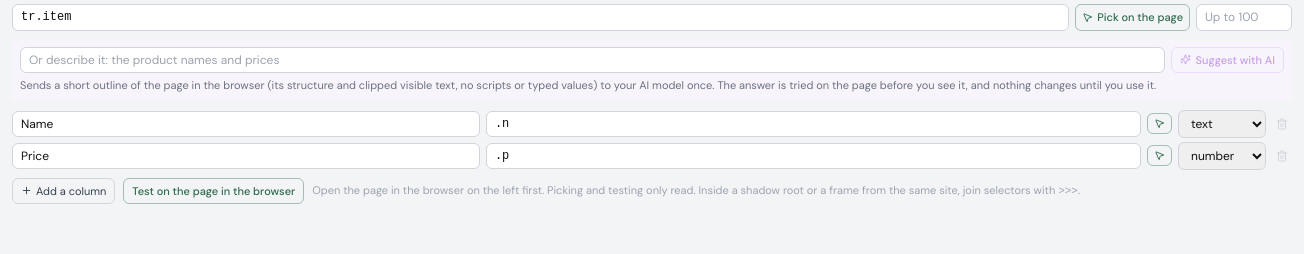
ScrapeEditor › says why nothing was found instead of showing an empty table
Click the button "Test on the page in the browser". click: click(214, 191)
box: x1=123 y1=178 x2=304 y2=204
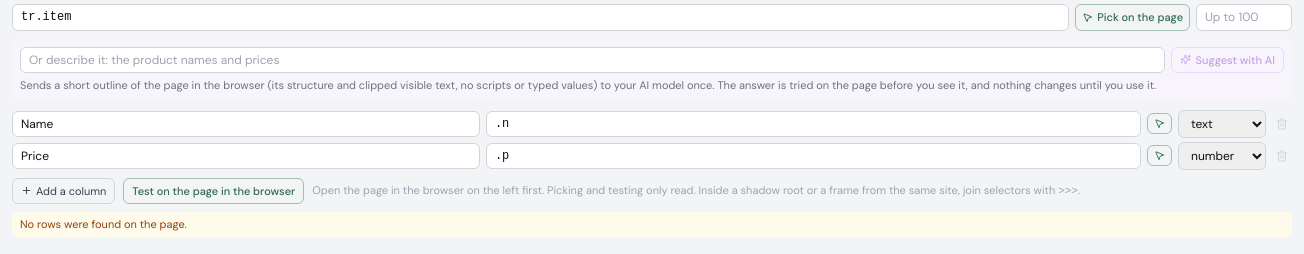
Now the text "No rows were found on the page." is shown, box x1=12 y1=212 x2=1292 y2=236
